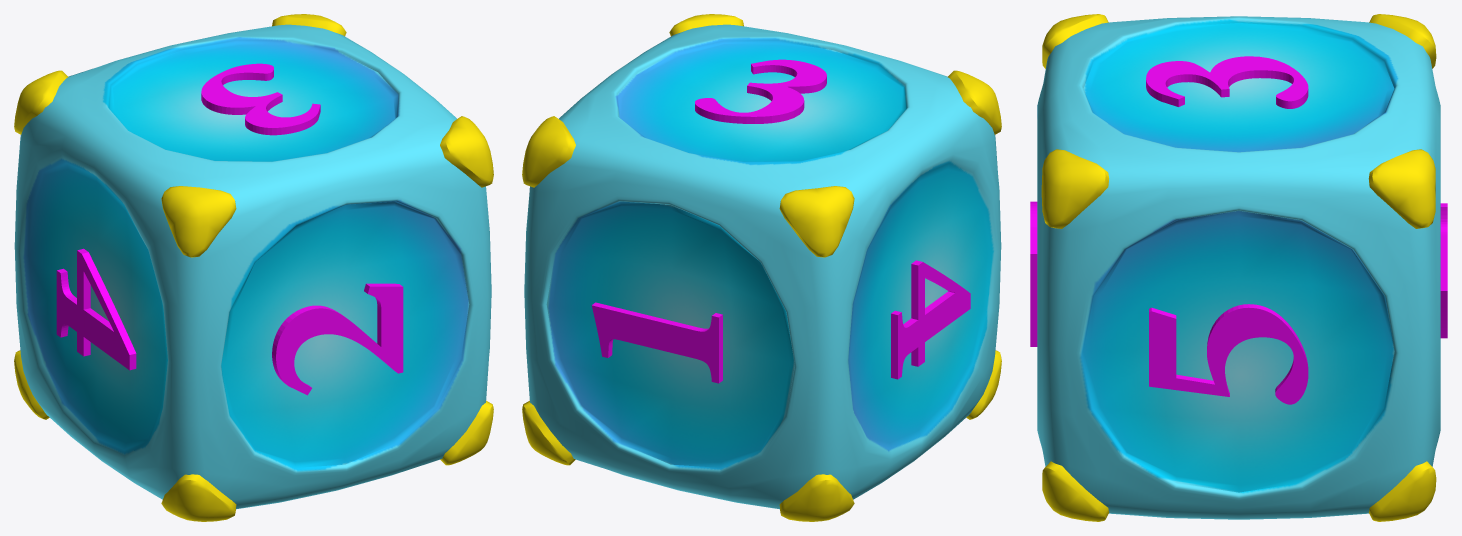
File: Dice 1.6.fbx
3 views of the same model, side by side, from view 1: azimuth 30°, elevation 25°; view 2: azimuth 150°, elevation 25°; view 3: azimuth 270°, elevation 25° (orthographic). The views are drawn at different scales.
Visible parts, largest first — view 1: Cube.002, acessery, Text6_02, Text2_04, Text3_03; view 2: Cube.002, acessery, Text5_01, Text2_04, Text3_03; view 3: Cube.002, acessery, Text4_05, Text3_03, Text6_02, Text5_01.
Boxes of the visible parts, x1,y1,x2,y2 form: Cube.002: [14, 24, 491, 509]; acessery: [14, 14, 493, 521]; Text6_02: [272, 283, 403, 395]; Text2_04: [56, 248, 136, 370]; Text3_03: [201, 63, 320, 135]; Cube.002: [524, 24, 1001, 509]; acessery: [522, 14, 1001, 521]; Text5_01: [591, 302, 722, 383]; Text2_04: [891, 260, 970, 379]; Text3_03: [695, 59, 826, 123]; Cube.002: [1037, 16, 1440, 519]; acessery: [1041, 14, 1436, 521]; Text4_05: [1149, 304, 1308, 404]; Text3_03: [1146, 56, 1308, 108]; Text6_02: [1030, 201, 1037, 346]; Text5_01: [1440, 203, 1447, 338].
Bounding box in the file's own units: 203 × 203 × 203.
